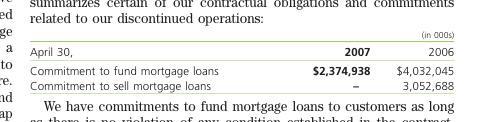table: (28, 28, 453, 91)
table column: (28, 28, 264, 91), (264, 28, 382, 91), (382, 28, 453, 91)
table column header: (28, 28, 453, 60)
table row: (28, 28, 453, 60), (28, 60, 453, 77), (28, 77, 453, 91)
